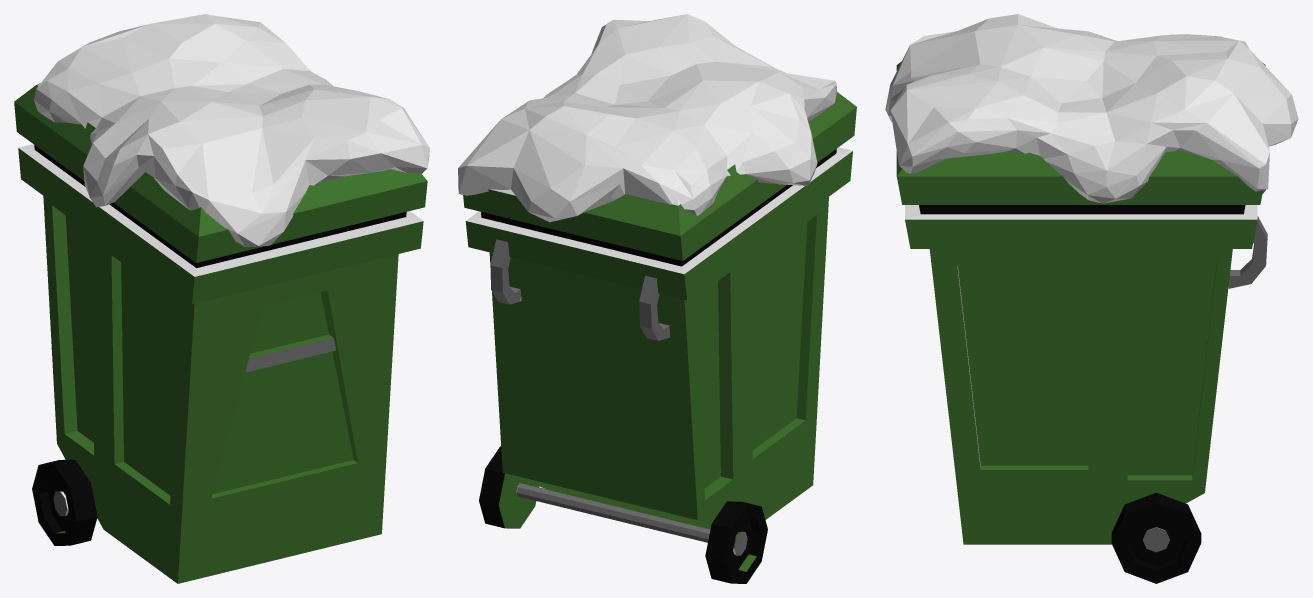
File: trash.fbx
The picture shows the model from 3 angles, left to right: view 1: azimuth 30°, elevation 25°; view 2: azimuth 150°, elevation 25°; view 3: azimuth 270°, elevation 25°; orthographic projection. The views are drawn at different scales.
Visible parts, largest first — view 1: Cylinder.003; view 2: Cylinder.003; view 3: Cylinder.003.
Part boxes in pixels (bbox=[...]): Cylinder.003: bbox=[14, 14, 429, 583]; Cylinder.003: bbox=[458, 14, 856, 583]; Cylinder.003: bbox=[885, 14, 1298, 583].
Size of the model in its own units: 80.33 by 132 by 105.
